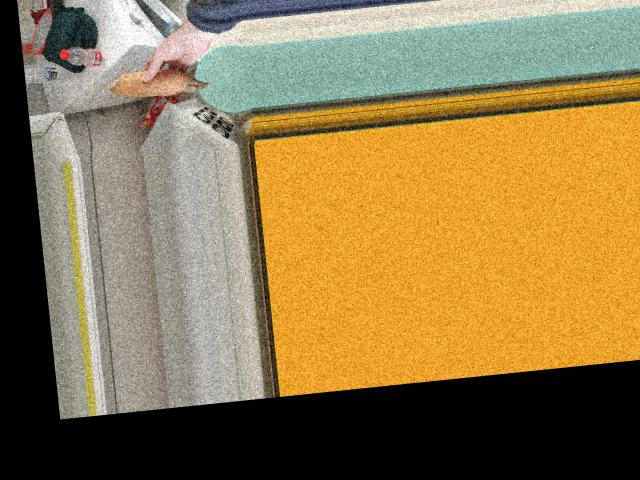sweet_potato: (119, 57, 208, 99)
